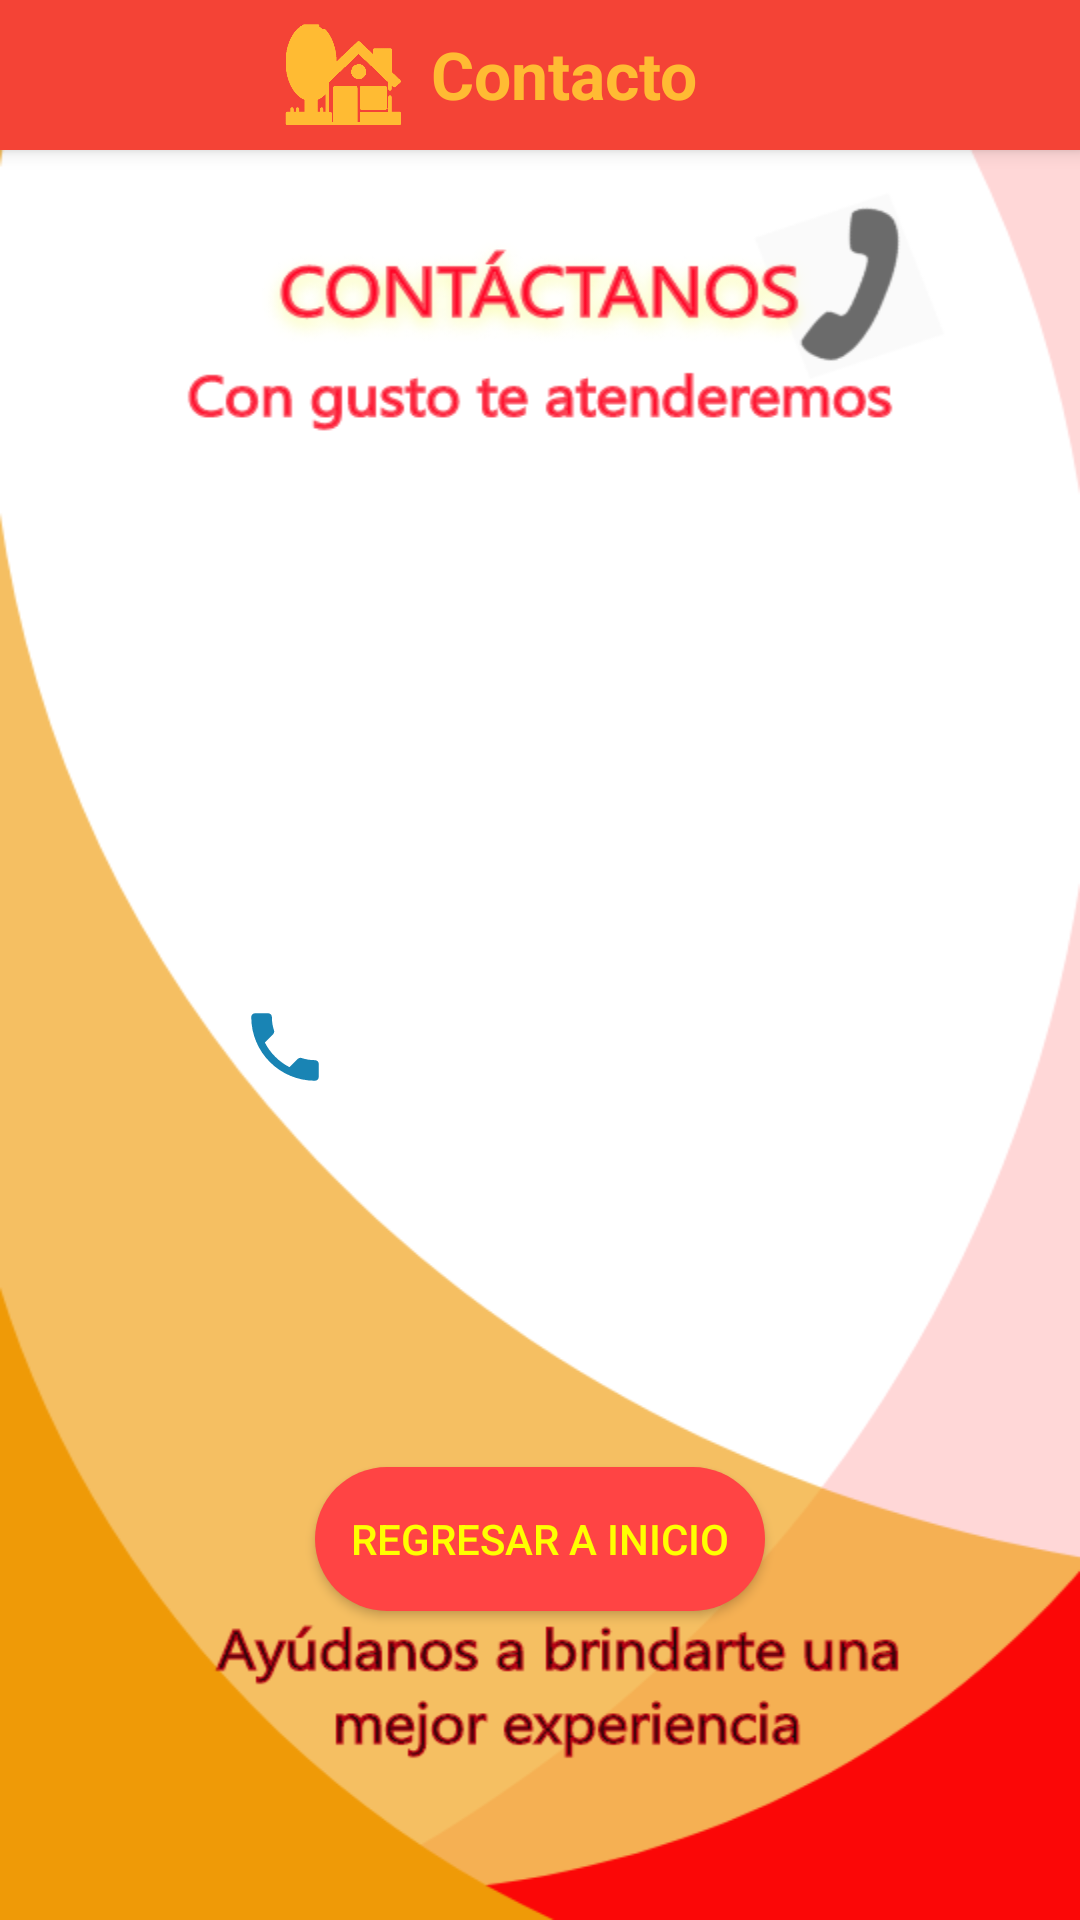

Locate icon controls on the screen. Image size 1080w x 1920h, boxes as (x1, y1, x2, y2).
call: (251, 1013, 319, 1081)
casa: (285, 24, 401, 125)
